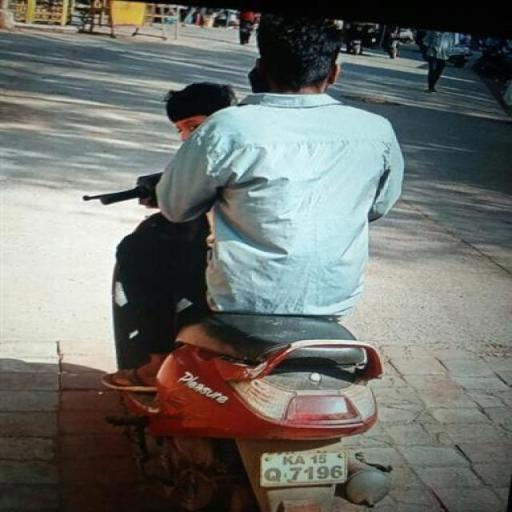using mobile: (244, 54, 276, 98)
